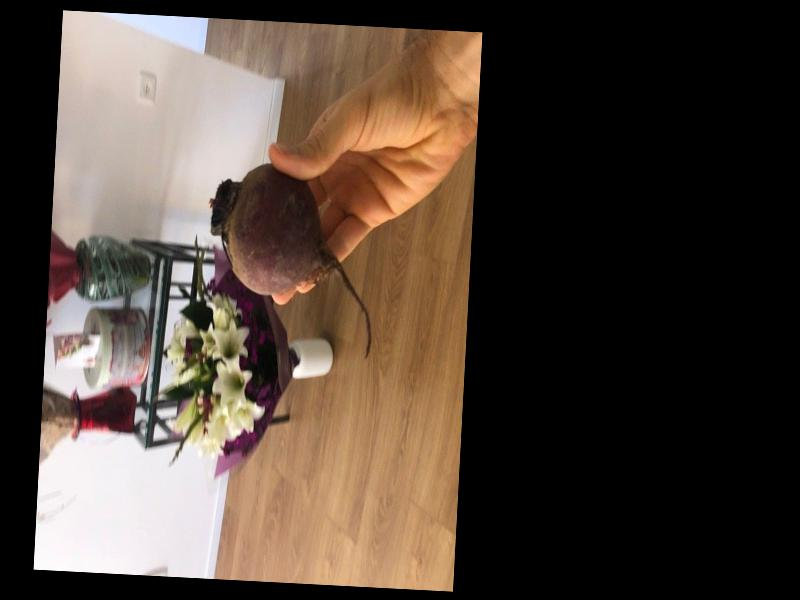Beet: (202, 161, 379, 362)
